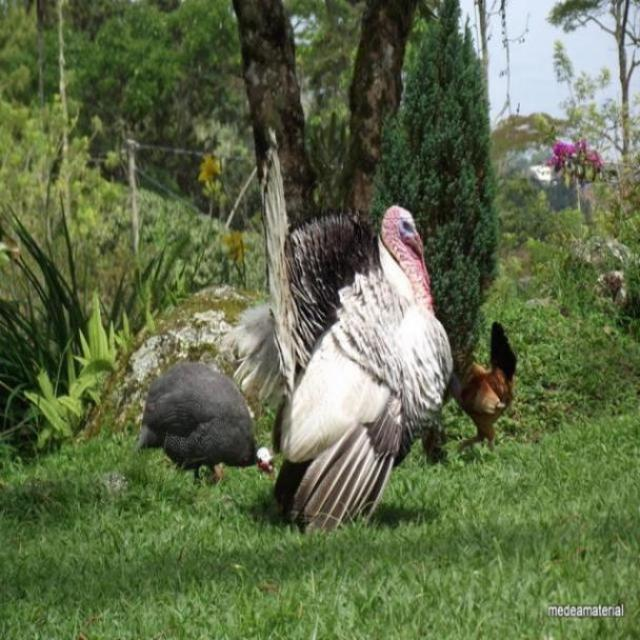Chicken: (452, 312, 527, 466)
